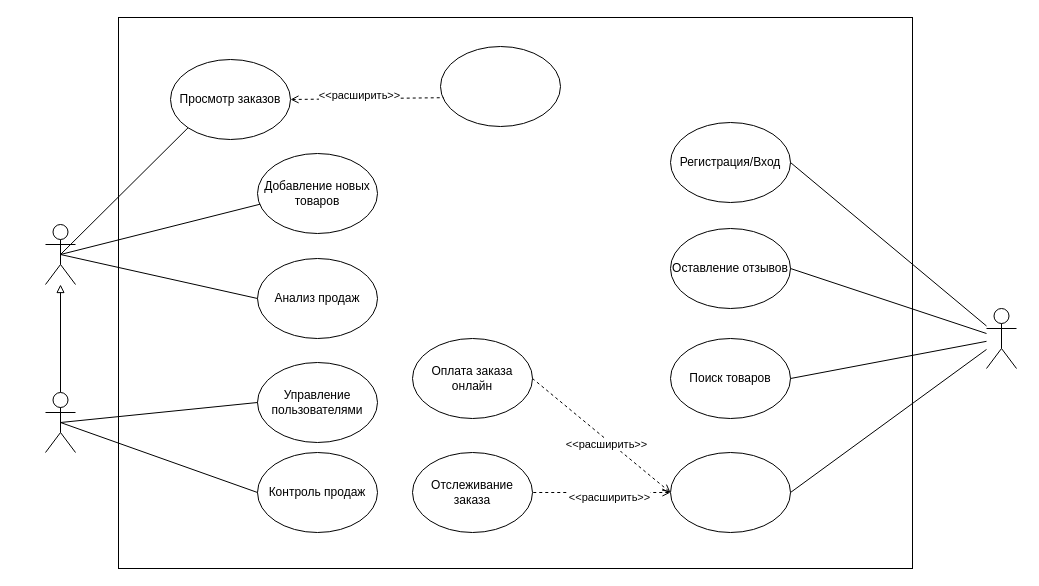
This 1039x586 diagram has some shape labels left out. The shapes that lost their labels are listed below. From the top down, each one's centre as x and y in pixels, then its label:
At [500,86]: "Изменение статуса заказов".
At [60,254]: "Продавец".
At [1001,338]: "Клиент".
At [60,422]: "Администратор".
At [730,492]: "Оформление заказа".
